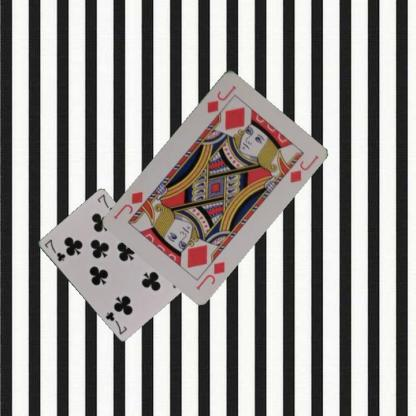7c: (42, 237, 66, 263)
Jd: (193, 258, 226, 291), (204, 82, 237, 114)
